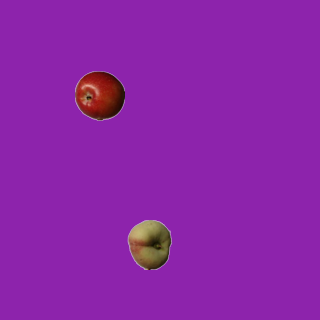Apple Braeburn: (74, 70, 124, 120)
Peach Flat: (124, 219, 174, 269)
